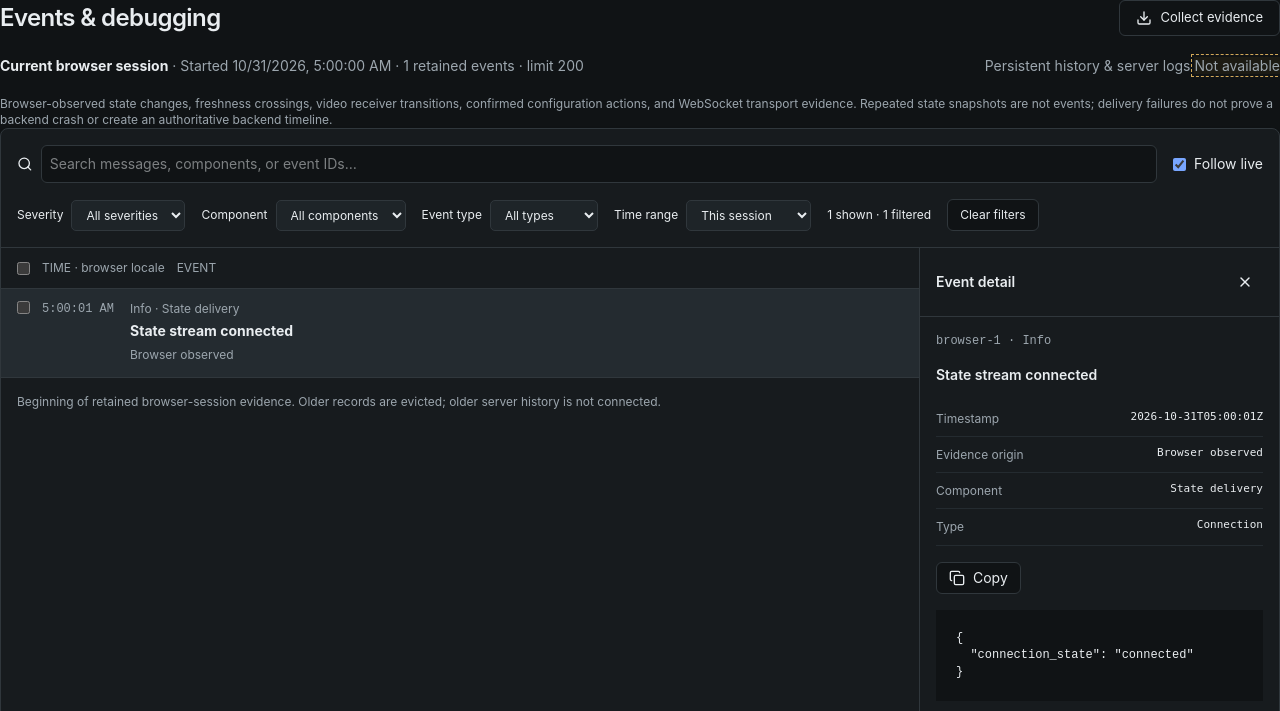
Scenario: EventsPage › collects explicit health snapshots once, treats503 as evidence and excludes prototype logs
The width and height of the screenshot is (1280, 711).
Click the button "Collect evidence" at (1200, 18), box [1120,0,1279,36]
(page scrolled)
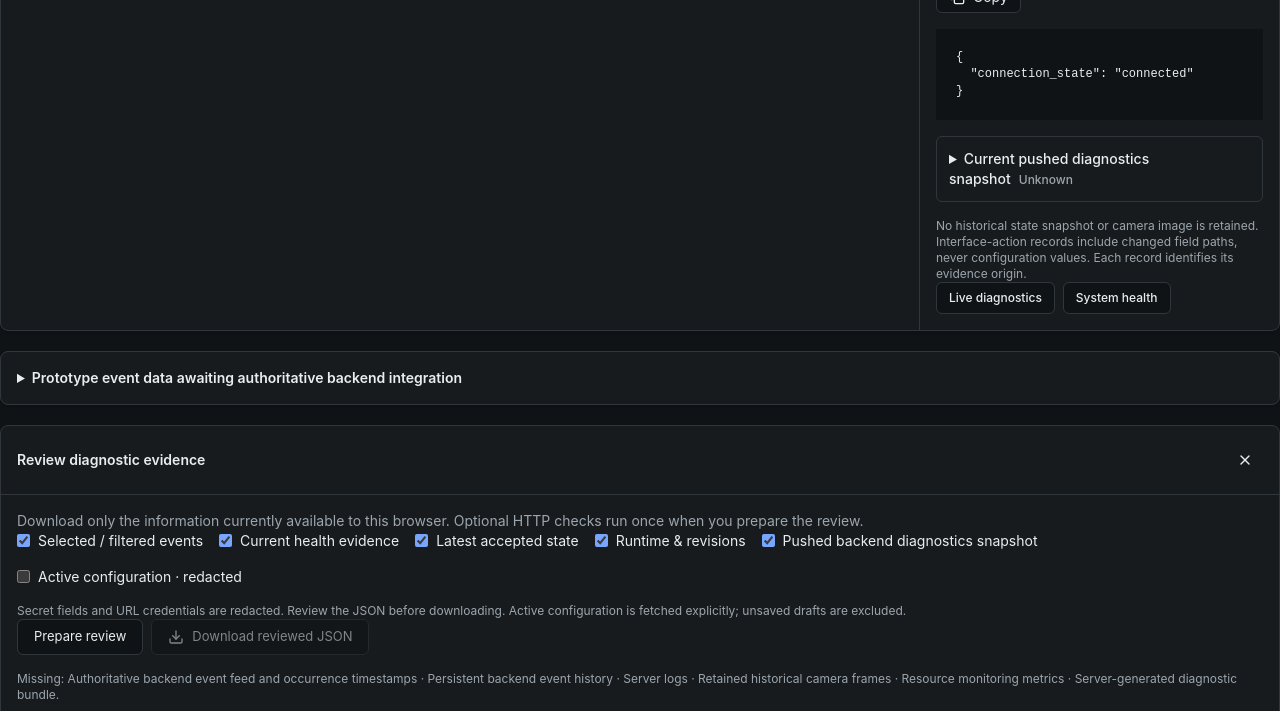
Click the button "Prepare review" at (80, 637), box [17,619,143,655]
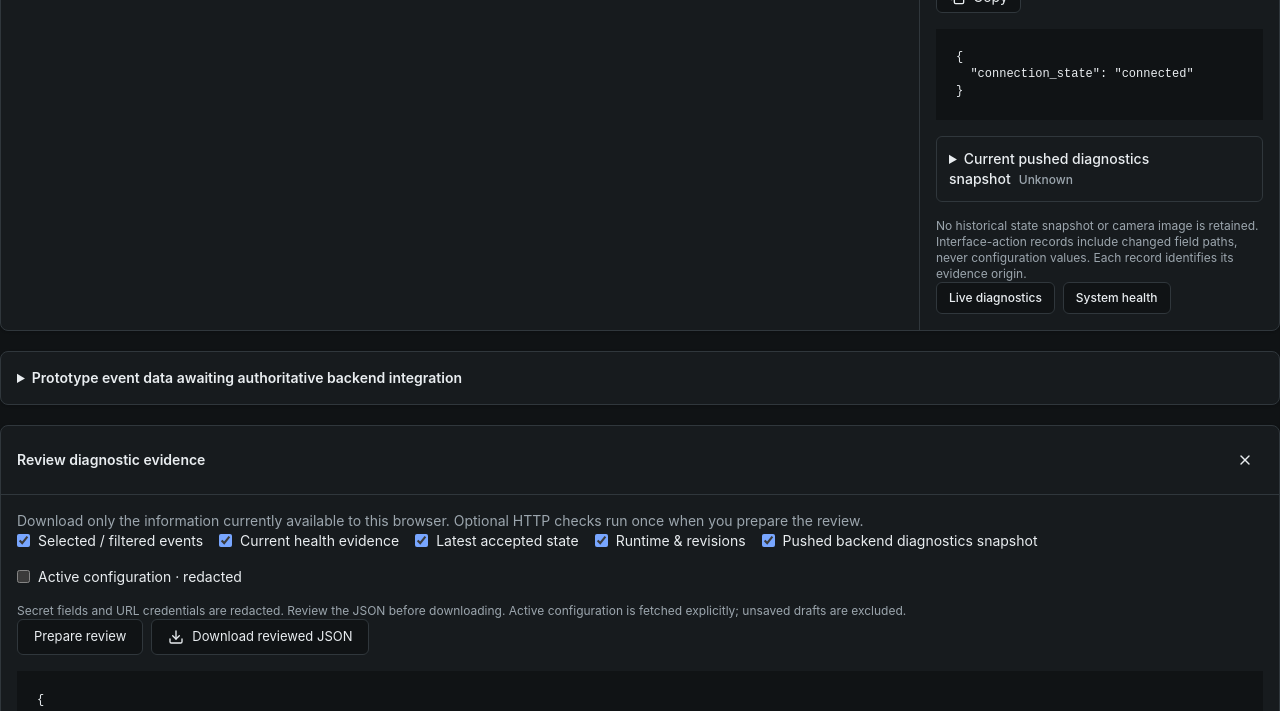
Check: the button "Download reviewed JSON" is enabled, box [151,619,370,655]
